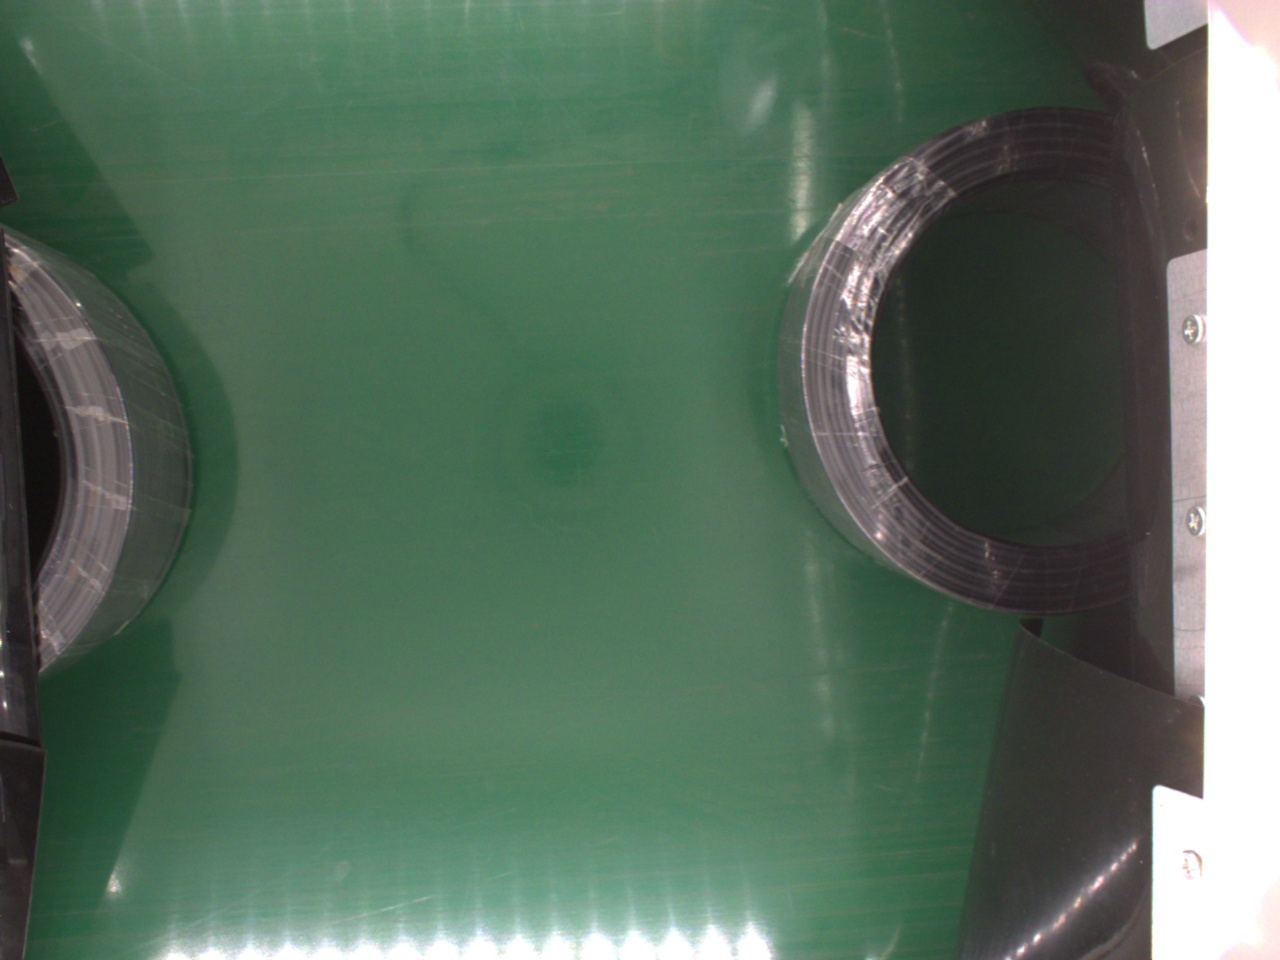black: (772, 112, 1150, 619), (1, 232, 199, 684)
